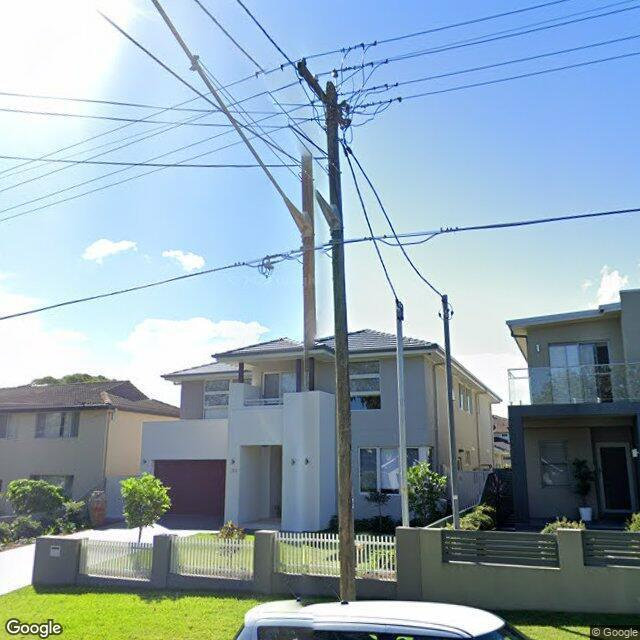crossarm: (296, 63, 350, 128)
steel-pole: (442, 294, 460, 529), (395, 300, 409, 527)
timber-pole: (326, 81, 357, 599)
